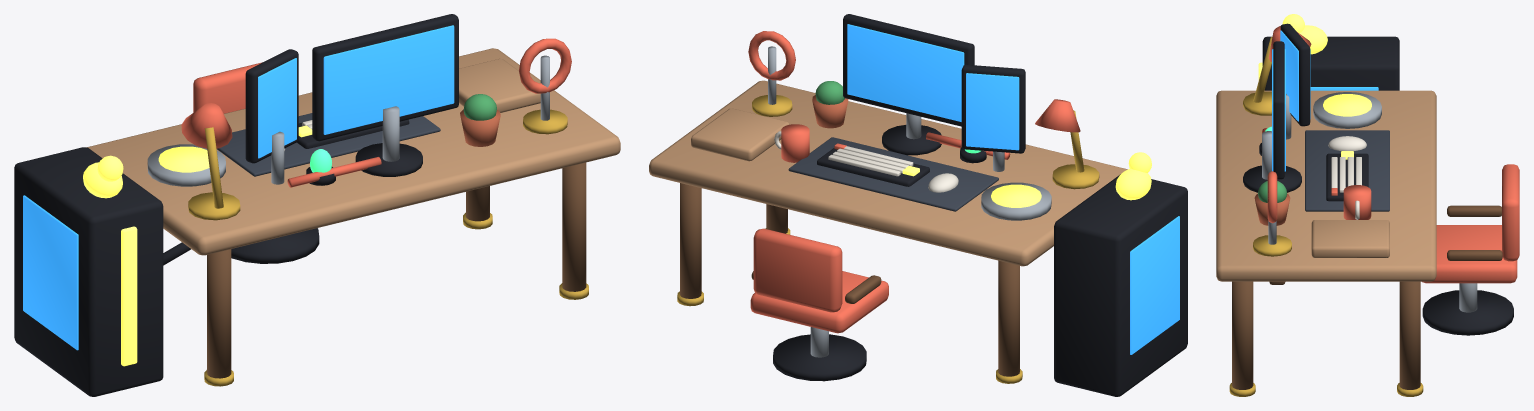
Rendered from Workstation_Developer_Optimized.fbx.
The picture shows the model from 3 angles, left to right: view 1: azimuth 30°, elevation 25°; view 2: azimuth 150°, elevation 25°; view 3: azimuth 270°, elevation 25°; orthographic projection. The views are drawn at different scales.
Visible parts, largest first — view 1: Developer_Static_CharcoalVisor, Developer_Static_WarmWood, Developer_MainMonitorScreen, Developer_Static_DarkWood, Developer_PCTowerWindow, Developer_Static_Developer_Coral, Developer_Static_BrushedMetal, Developer_Static_Brass, Developer_Static_FeltSlate, Developer_SideMonitorScreen, Developer_PCTowerLedBar, Developer_Static_Developer_Amber (+3 smaller); view 2: Developer_Static_CharcoalVisor, Developer_Static_WarmWood, Developer_Static_Developer_Coral, Developer_MainMonitorScreen, Developer_Static_DarkWood, Developer_PCTowerWindow, Developer_Static_FeltSlate, Developer_SideMonitorScreen, Developer_Static_BrushedMetal, Developer_Static_Brass, Developer_Static_CreamCeramic, Developer_Static_Developer_Amber (+3 smaller); view 3: Developer_Static_WarmWood, Developer_Static_CharcoalVisor, Developer_Static_Developer_Coral, Developer_Static_DarkWood, Developer_Static_FeltSlate, Developer_Static_BrushedMetal, Developer_Static_Brass, Developer_Static_CreamCeramic, Developer_SideMonitorScreen, Developer_ArtifactGlowPad, Developer_Static_Developer_Amber, Developer_Static_Terracotta (+3 smaller).
Part boxes in pixels (<box>): Developer_Static_CharcoalVisor: <box>14,14,458,396</box>; Developer_Static_WarmWood: <box>86,48,620,255</box>; Developer_MainMonitorScreen: <box>323,25,454,134</box>; Developer_Static_DarkWood: <box>207,162,586,378</box>; Developer_PCTowerWindow: <box>23,195,78,350</box>; Developer_Static_Developer_Coral: <box>181,38,571,187</box>; Developer_Static_BrushedMetal: <box>147,55,549,186</box>; Developer_Static_Brass: <box>188,109,588,386</box>; Developer_Static_FeltSlate: <box>217,113,440,176</box>; Developer_SideMonitorScreen: <box>258,58,296,158</box>; Developer_PCTowerLedBar: <box>121,226,137,366</box>; Developer_Static_Developer_Amber: <box>83,125,312,198</box>; Developer_Static_CharcoalVisor: <box>773,14,1187,396</box>; Developer_Static_WarmWood: <box>649,80,1127,266</box>; Developer_Static_Developer_Coral: <box>748,31,1080,333</box>; Developer_MainMonitorScreen: <box>847,24,964,121</box>; Developer_Static_DarkWood: <box>680,183,1019,376</box>; Developer_PCTowerWindow: <box>1130,216,1179,354</box>; Developer_Static_FeltSlate: <box>788,137,998,211</box>; Developer_SideMonitorScreen: <box>966,73,1019,150</box>; Developer_Static_BrushedMetal: <box>768,46,1051,357</box>; Developer_Static_Brass: <box>677,95,1099,383</box>; Developer_Static_CreamCeramic: <box>774,131,958,192</box>; Developer_Static_Developer_Amber: <box>902,152,1151,200</box>; Developer_Static_WarmWood: <box>1216,90,1436,281</box>; Developer_Static_CharcoalVisor: <box>1243,23,1513,335</box>; Developer_Static_Developer_Coral: <box>1262,26,1519,283</box>; Developer_Static_DarkWood: <box>1232,205,1502,389</box>; Developer_Static_FeltSlate: <box>1305,130,1389,211</box>; Developer_Static_BrushedMetal: <box>1262,92,1477,312</box>; Developer_Static_Brass: <box>1229,36,1423,396</box>; Developer_Static_CreamCeramic: <box>1328,136,1366,219</box>; Developer_SideMonitorScreen: <box>1280,30,1310,121</box>; Developer_ArtifactGlowPad: <box>1323,94,1371,116</box>; Developer_Static_Developer_Amber: <box>1282,14,1353,159</box>; Developer_Static_Terracotta: <box>1254,194,1290,225</box>.
Size of the model in its own units: 31.2 by 16.9 by 18.6.
